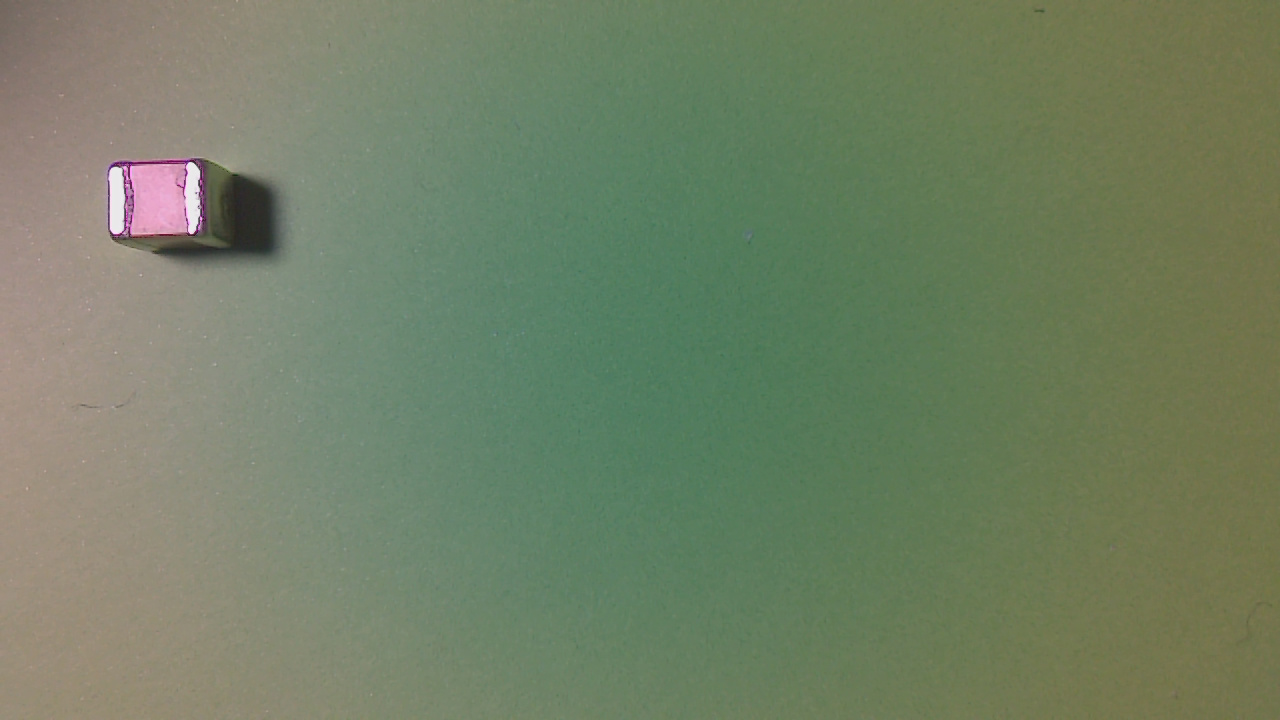Condensator: (108, 162, 215, 246)
